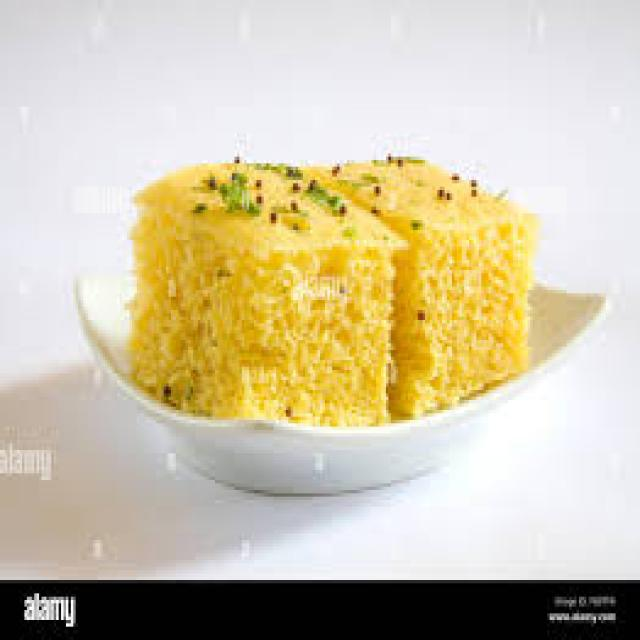DHOKLA: (129, 167, 398, 420), (342, 160, 533, 420)
